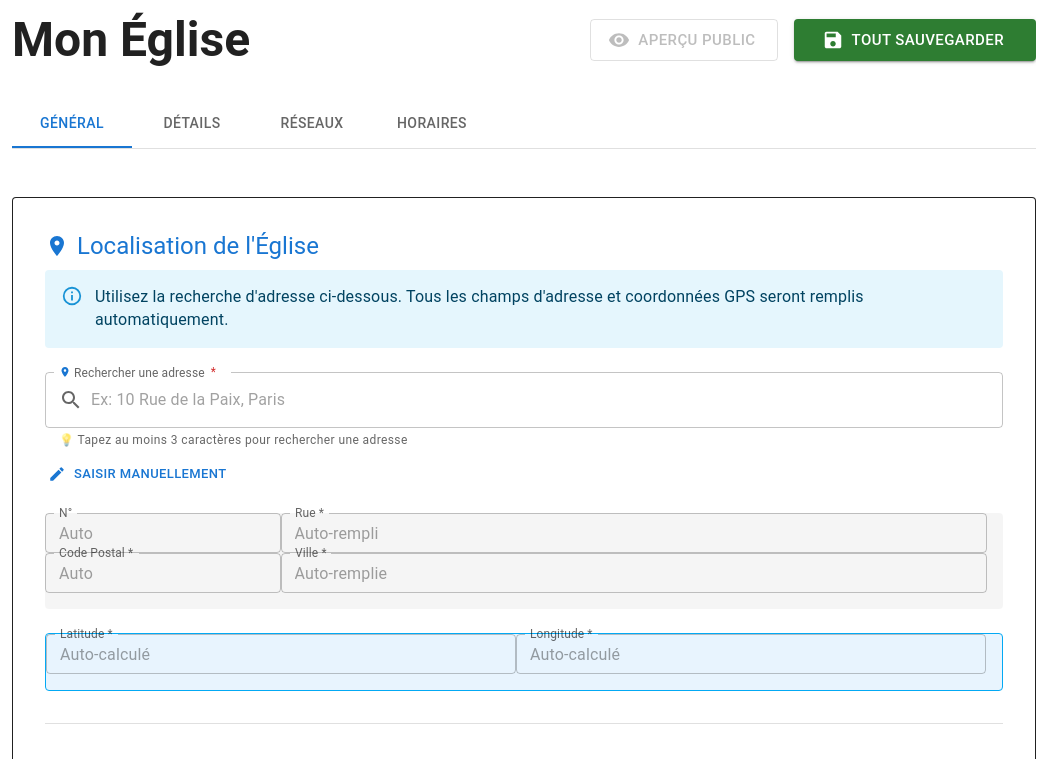
Test: MyChurch - Tests Fonctionnels › Onglet Horaires › devrait afficher un message si aucun horaire
Note: Naviguer vers Horaires
Click the tab "Horaires" at (432, 124), box [372,100,492,148]
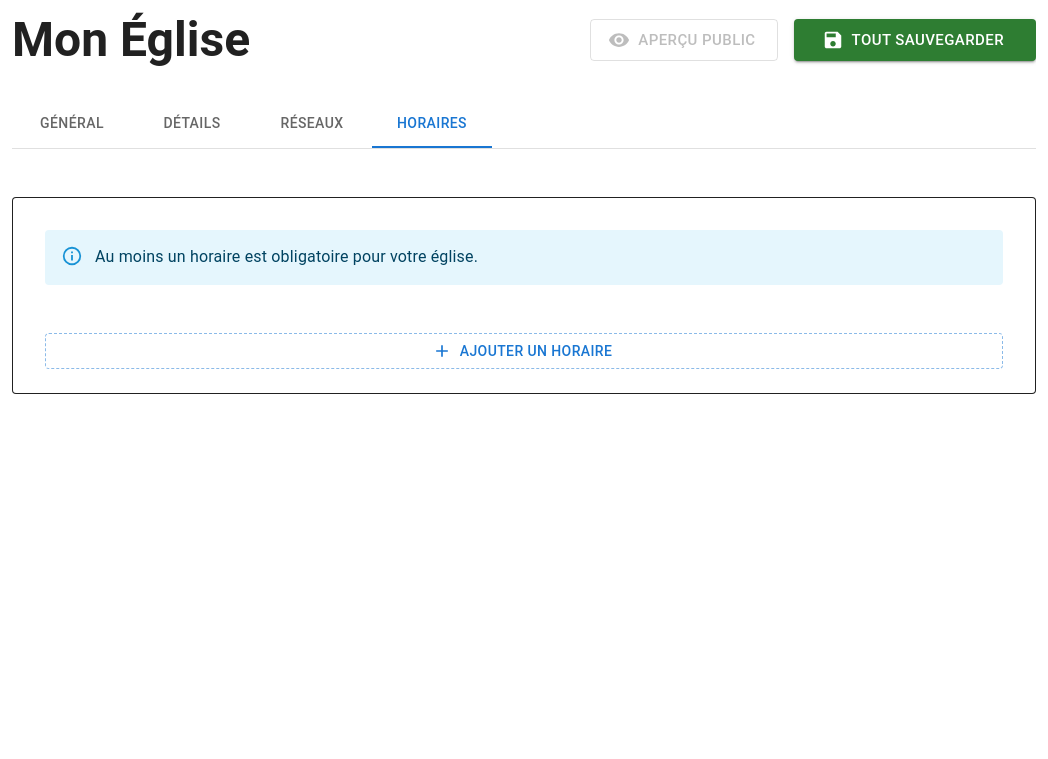
expect the button "Ajouter un horaire" is shown: met, box [45,333,1003,369]
